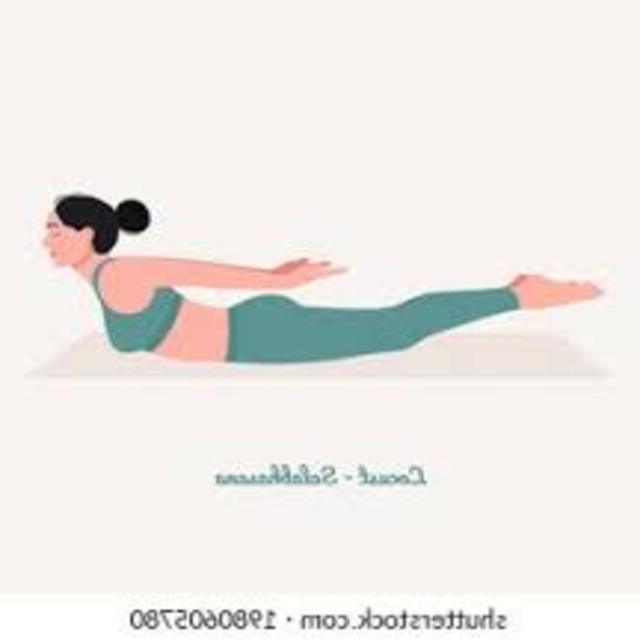Locust_Pose: (42, 194, 604, 364)
